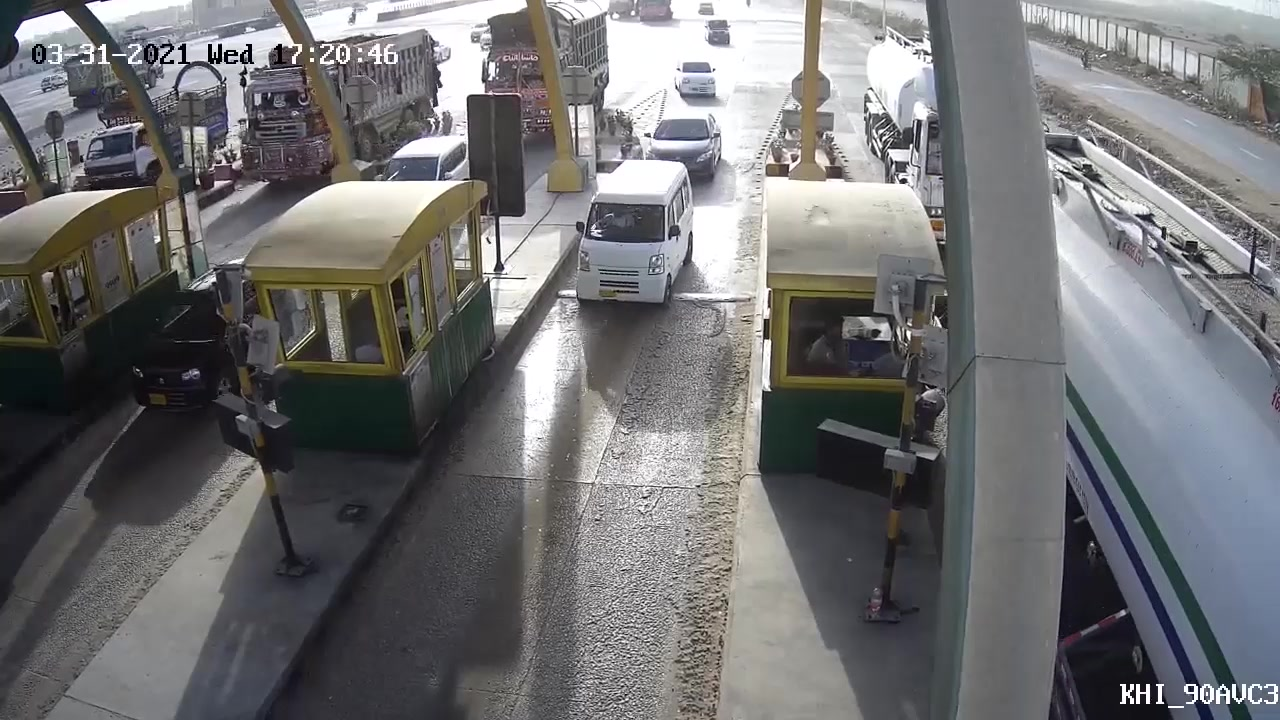F1: (553, 152, 707, 327)
